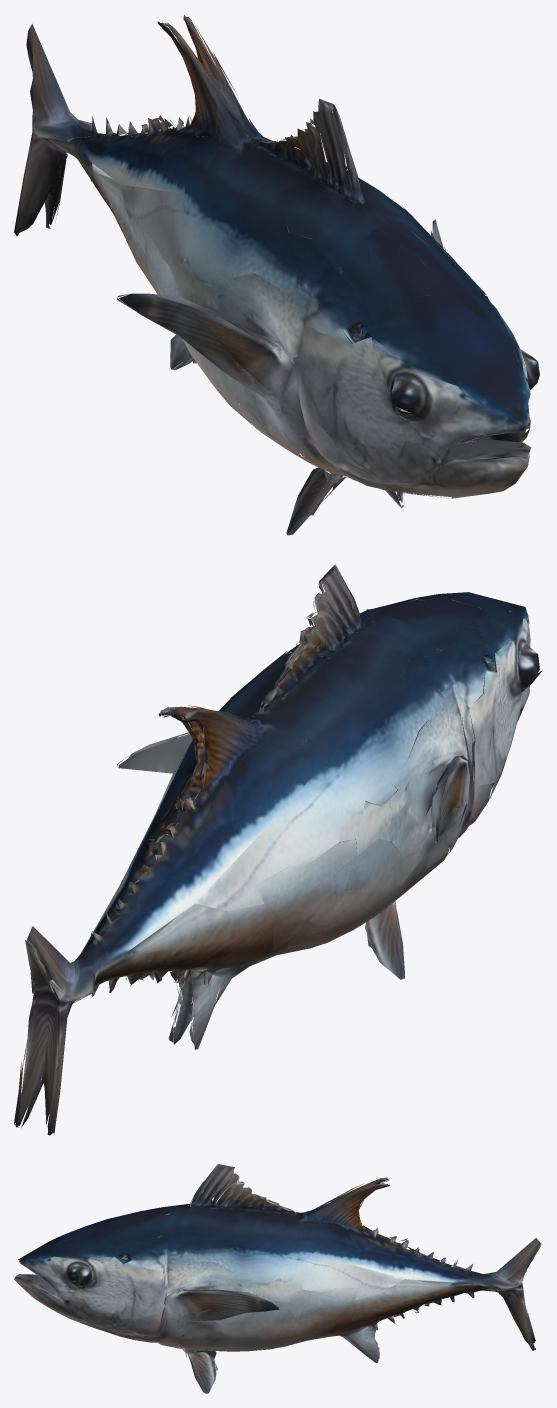
Rendered from tuna.glb.
3 renders of one model, top to bottom at view 1: azimuth 30°, elevation 25°; view 2: azimuth 150°, elevation 25°; view 3: azimuth 270°, elevation 25°, orthographic. The views are drawn at different scales.
Parts seen in each view (by area): view 1: tuna.001; view 2: tuna.001; view 3: tuna.001.
Boxes of the visible parts, left/top/right/bottom form: tuna.001: left=14, top=15, right=539, bottom=535; tuna.001: left=14, top=564, right=542, bottom=1135; tuna.001: left=14, top=1164, right=541, bottom=1393.
Size of the model in its own units: 0.368 by 0.4498 by 1.
1 material, 1 textured.
